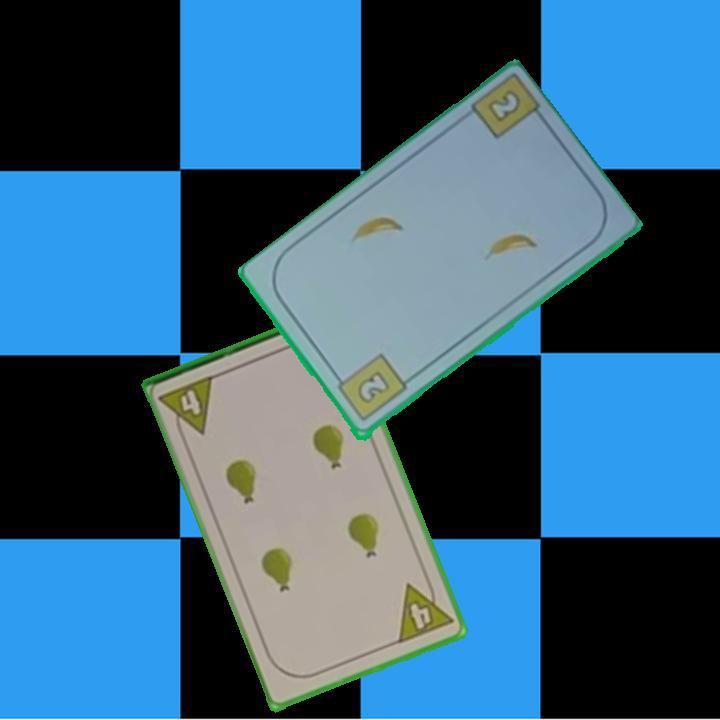2b: (331, 351, 410, 425), (484, 89, 524, 126)
4p: (394, 573, 456, 647), (155, 371, 218, 443)
